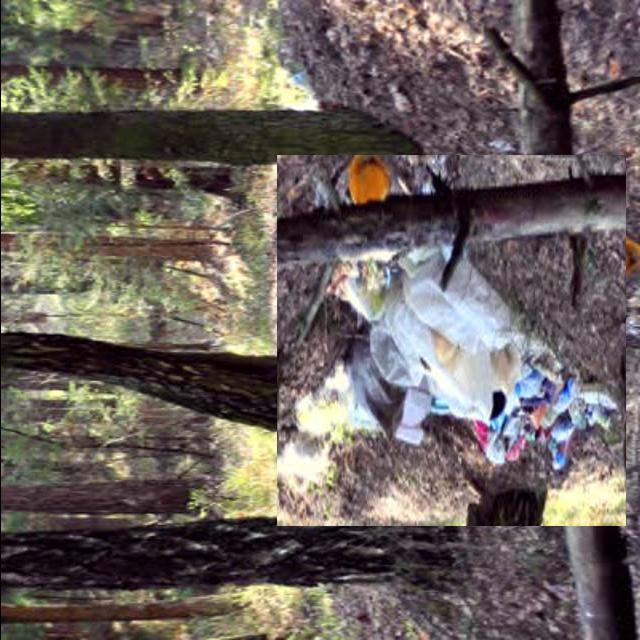garbage: (271, 160, 631, 521)
